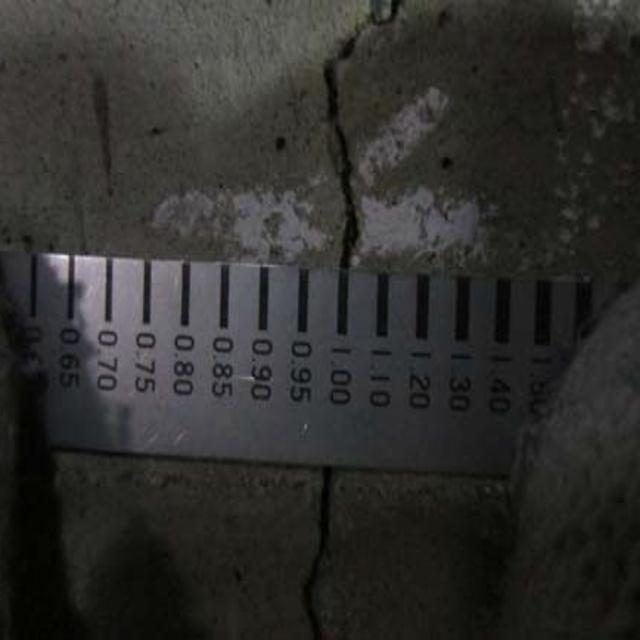crack: (306, 6, 403, 257), (268, 464, 358, 640)
